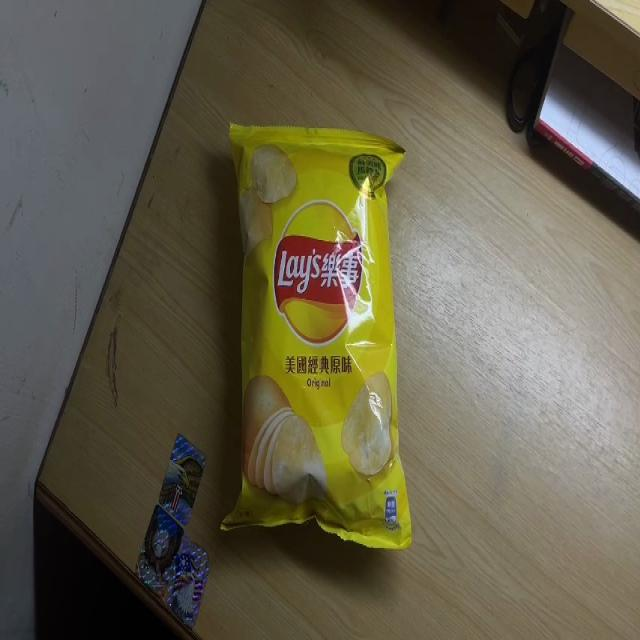Lay-s-original: (220, 118, 413, 549)
